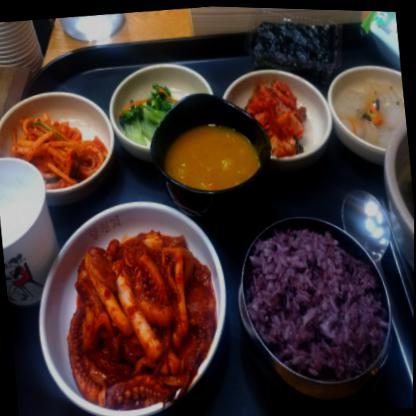Kimchi stew: (239, 66, 312, 156)
jeyuk bokkeum: (62, 221, 225, 415)
radish Kimchi: (0, 97, 113, 186)
rice ball: (239, 210, 392, 389)
